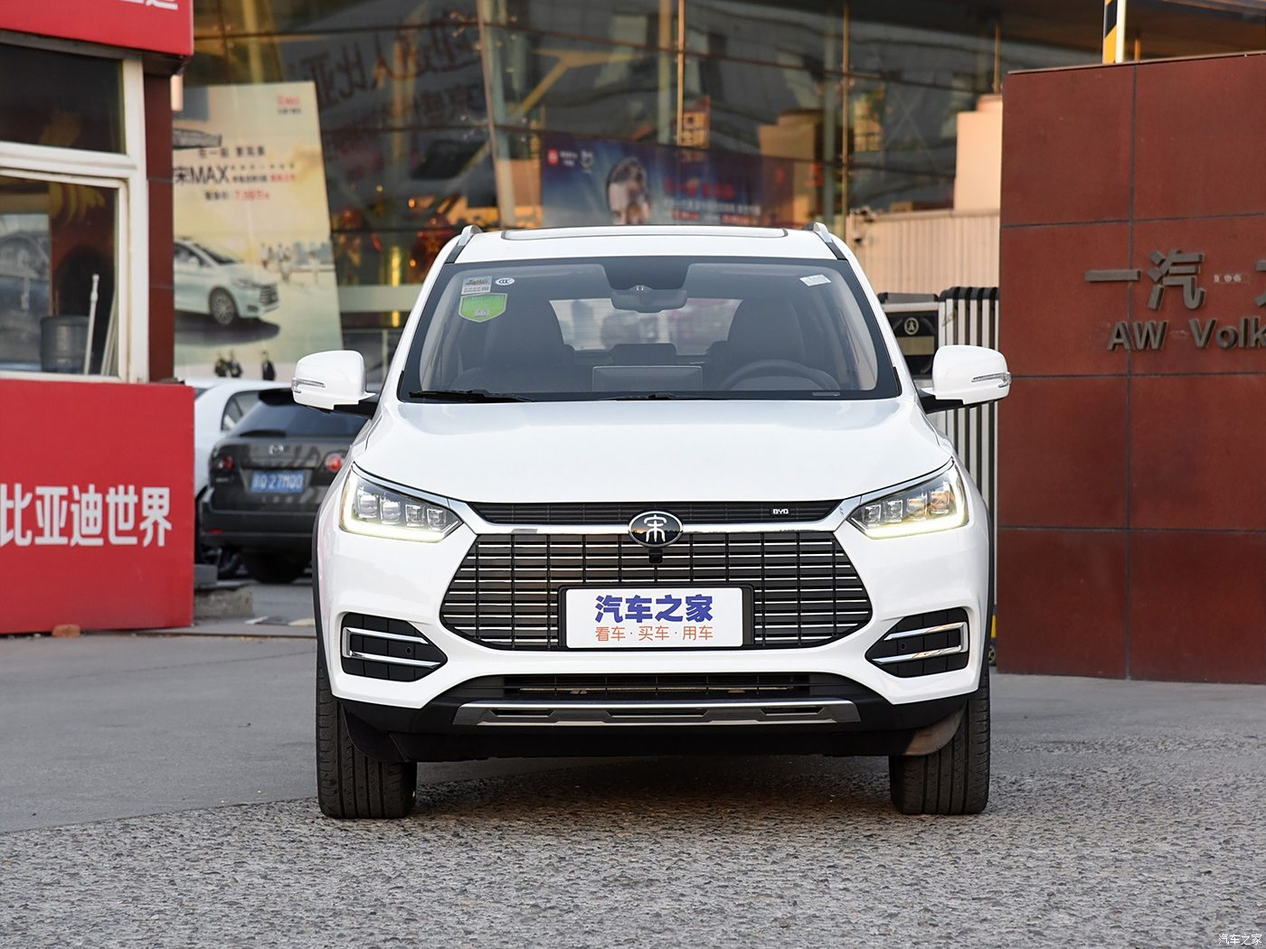BYD Song: (628, 512, 683, 547)
